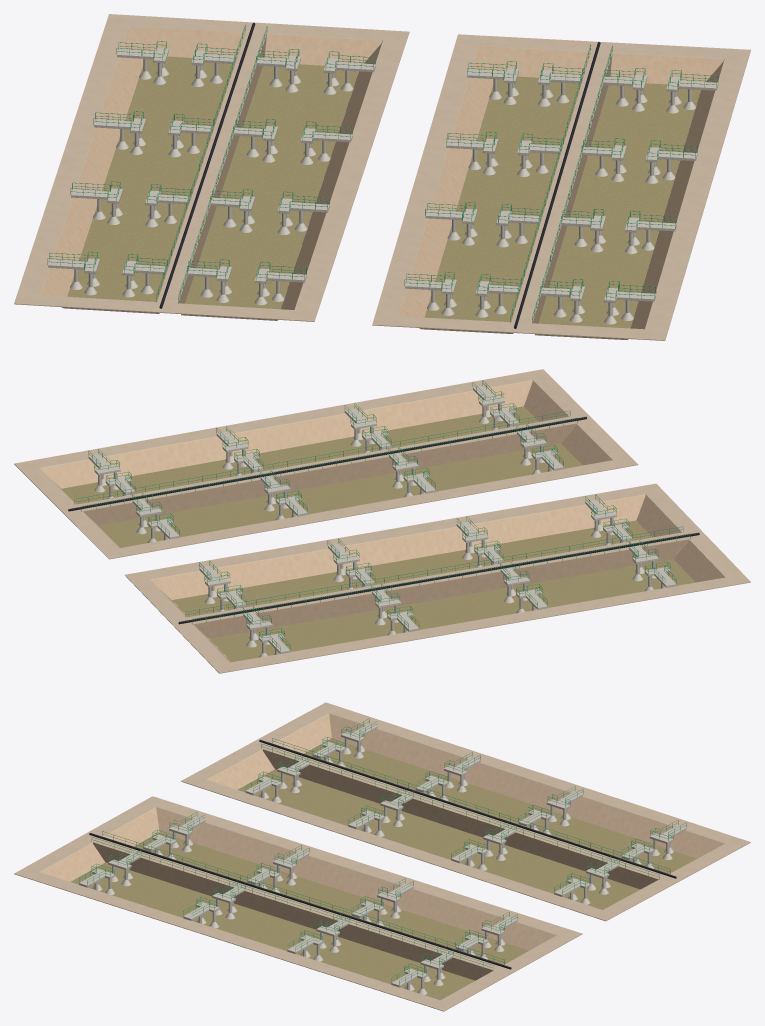
Rendered from Bassins_decantation.glb.
3 views of the same model, one above another, from view 1: azimuth 30°, elevation 25°; view 2: azimuth 150°, elevation 25°; view 3: azimuth 270°, elevation 25° (orthographic). The views are drawn at different scales.
Parts seen in each view (by area): view 1: BD_Fond, BD_Digues, BD_Talus_beton, BD_Fleches, BD_Fleches_garde_corps, BD_Garde_corps_passerelle, BD_Conduite_PEHD; view 2: BD_Talus_beton, BD_Fond, BD_Digues, BD_Fleches, BD_Fleches_garde_corps, BD_Garde_corps_passerelle, BD_Conduite_PEHD; view 3: BD_Fond, BD_Talus_beton, BD_Digues, BD_Fleches, BD_Fleches_garde_corps, BD_Garde_corps_passerelle, BD_Conduite_PEHD.
Boxes of the visible parts, x1,y1,x2,y2 form: BD_Fond: [67, 56, 700, 328]; BD_Digues: [14, 14, 750, 340]; BD_Talus_beton: [41, 26, 723, 339]; BD_Fleches: [48, 48, 718, 324]; BD_Fleches_garde_corps: [47, 41, 718, 300]; BD_Garde_corps_passerelle: [156, 25, 612, 323]; BD_Conduite_PEHD: [159, 22, 600, 328]; BD_Talus_beton: [40, 381, 724, 662]; BD_Fond: [62, 406, 695, 661]; BD_Digues: [14, 369, 750, 673]; BD_Fleches: [88, 386, 676, 657]; BD_Fleches_garde_corps: [88, 380, 676, 651]; BD_Garde_corps_passerelle: [74, 410, 690, 624]; BD_Conduite_PEHD: [68, 416, 699, 624]; BD_Fond: [71, 738, 696, 1000]; BD_Talus_beton: [41, 714, 723, 980]; BD_Digues: [14, 702, 750, 1011]; BD_Fleches: [79, 723, 686, 994]; BD_Fleches_garde_corps: [79, 718, 686, 985]; BD_Garde_corps_passerelle: [91, 738, 670, 968]; BD_Conduite_PEHD: [89, 739, 676, 969].
Bounding box in the file's own units: 128 × 4.58 × 130.
Materials: 6 (6 with a texture image).
